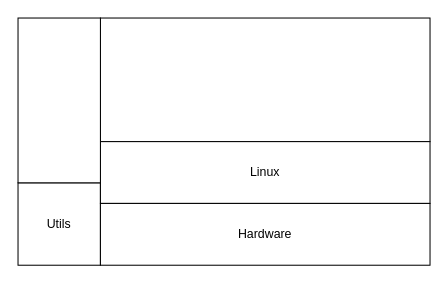
This 448x283 diagram has some shape labels left out. Here are the shapes that lost their labels. From the top down, the centre of each, then its label:
At (x=264, y=79): "Application".
At (x=58, y=100): "Lib FFmpeg Live555 SDL2".
